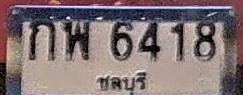1: (171, 22, 184, 60)
4: (139, 22, 160, 59)
6: (111, 22, 133, 59)
8: (194, 22, 216, 60)
A01: (28, 20, 56, 60)
A30: (64, 21, 90, 60)
CBI: (96, 70, 150, 95)
